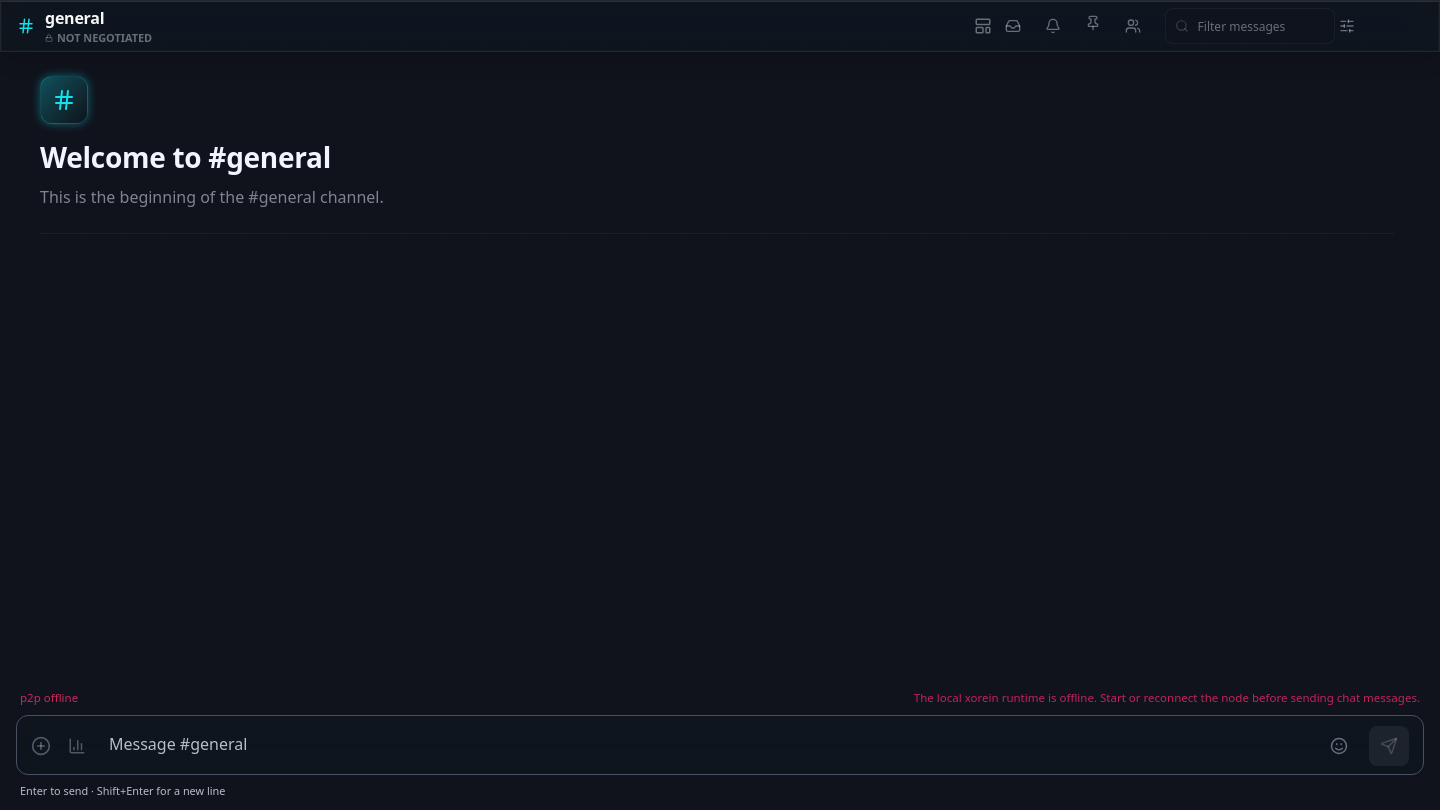
Test case: ChatArea › disables the send button while the composer is empty and enables it once there is content
Expected: the button named "send message" is disabled, top-left (1369, 726), bottom-right (1409, 766)
Type "hello" into the text box named "Message Input" at [705, 745], box top-left (101, 722), bottom-right (1309, 768)
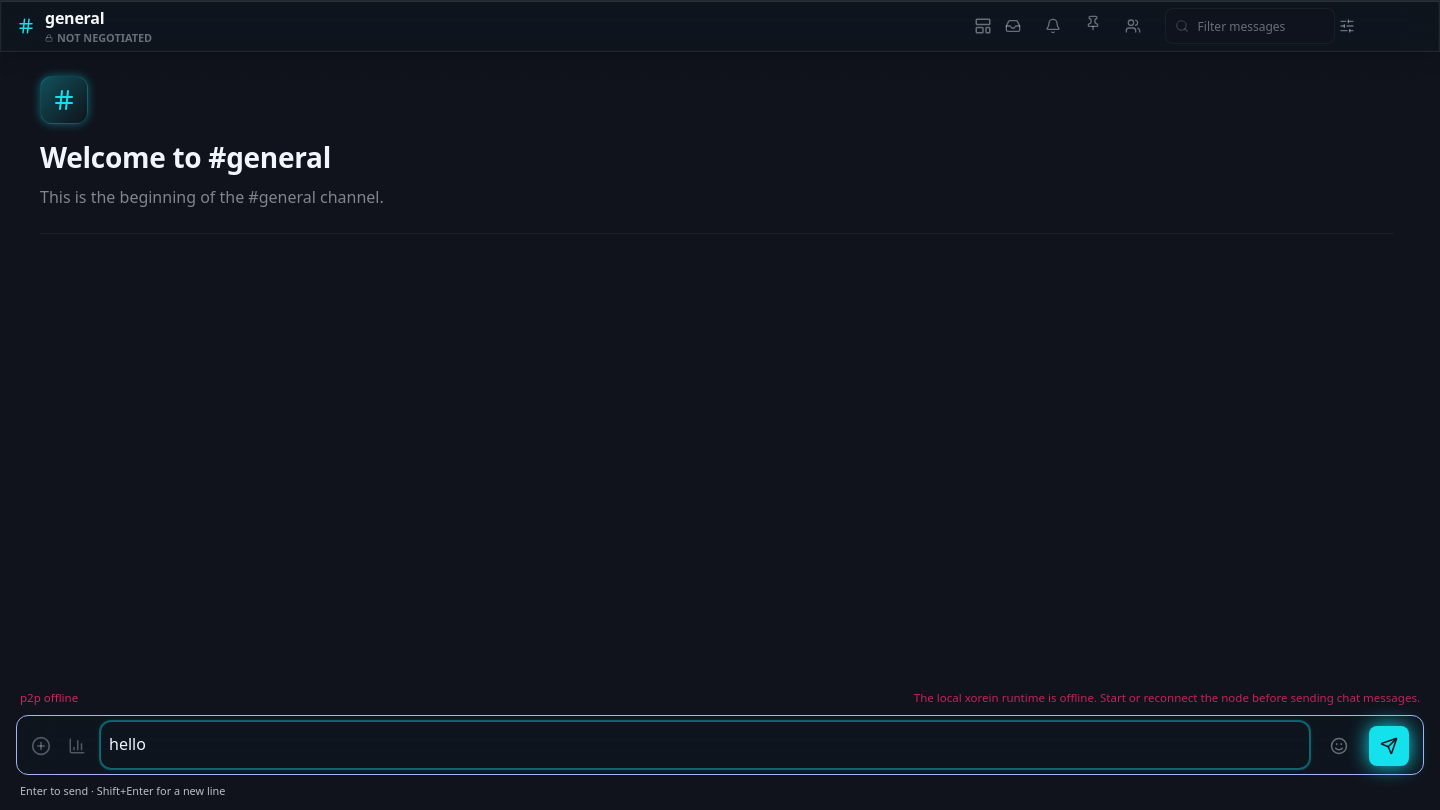
Expected: the button named "send message" is enabled, top-left (1369, 726), bottom-right (1409, 766)
